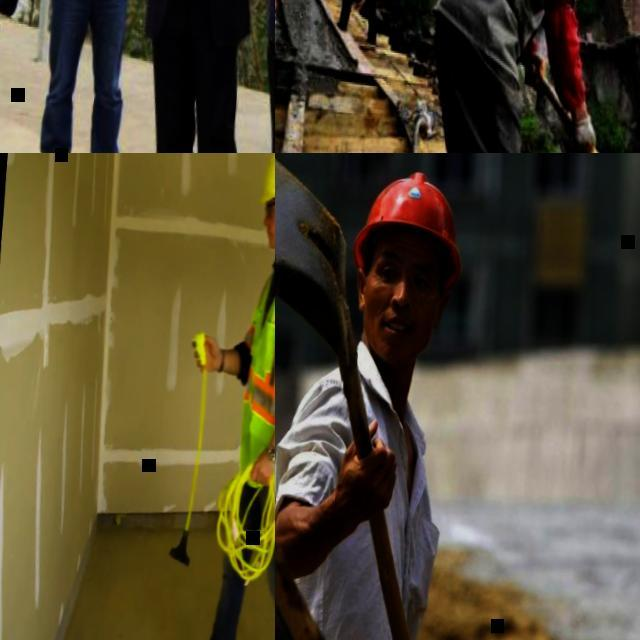helmet: (348, 168, 471, 291), (259, 153, 275, 209)
vest: (234, 250, 275, 443)
